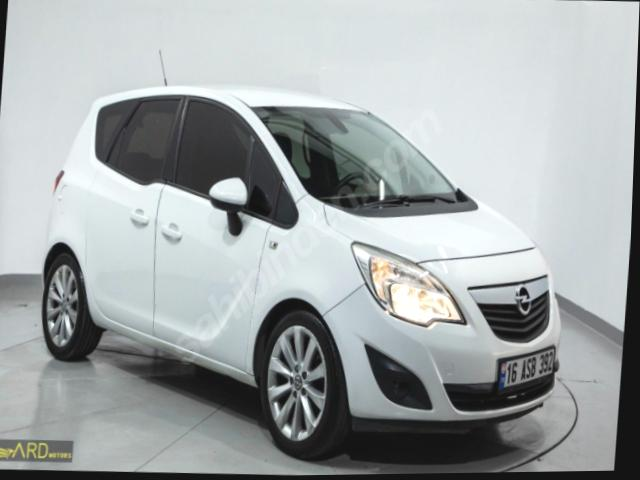plaka: (498, 346, 556, 392)
